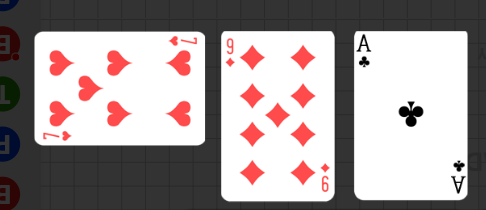7H: (42, 129, 73, 142)
9D: (225, 36, 236, 69)
AC: (357, 33, 374, 70)
